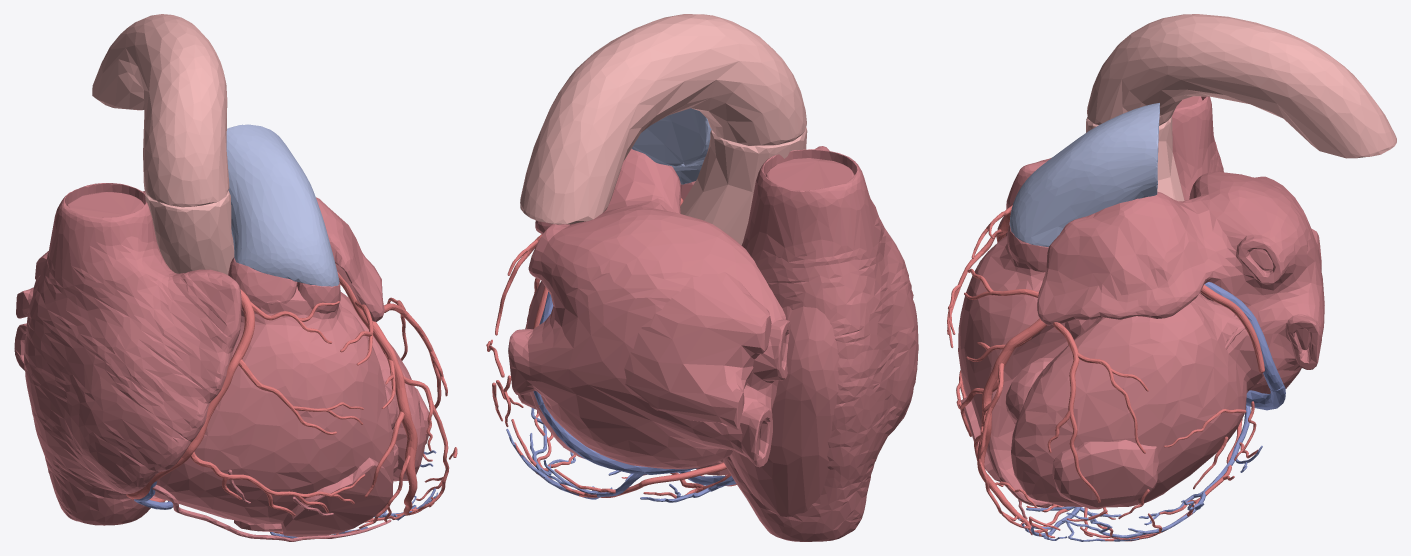
Rendered from heart_model.glb.
3 views of the same model, side by side, from view 1: azimuth 30°, elevation 25°; view 2: azimuth 150°, elevation 25°; view 3: azimuth 270°, elevation 25° (orthographic). The views are drawn at different scales.
Parts seen in each view (by area): view 1: myocardium, aorta, pulmonary_trunk, lad, rca, coronary_veins; view 2: myocardium, aorta, coronary_veins, pulmonary_trunk, rca, lcx, lad; view 3: myocardium, aorta, pulmonary_trunk, lad, coronary_veins, rca, lcx.
Part boxes in pixels (<box>): myocardium: <box>14,183,430,541</box>; aorta: <box>92,14,234,274</box>; pulmonary_trunk: <box>226,124,339,286</box>; lad: <box>337,272,457,528</box>; rca: <box>126,289,425,534</box>; coronary_veins: <box>134,450,437,538</box>; myocardium: <box>508,146,918,541</box>; aorta: <box>520,14,807,245</box>; coronary_veins: <box>506,292,736,502</box>; pulmonary_trunk: <box>631,108,711,184</box>; rca: <box>511,410,736,498</box>; lcx: <box>486,286,548,426</box>; lad: <box>495,234,542,335</box>; myocardium: <box>958,96,1324,519</box>; aorta: <box>1086,14,1396,201</box>; pulmonary_trunk: <box>1009,103,1159,247</box>; lad: <box>960,268,1148,537</box>; coronary_veins: <box>1018,282,1285,541</box>; rca: <box>947,205,1258,541</box>; lcx: <box>1067,284,1264,521</box>.
Bounding box in the file's own units: 1.62 × 2 × 1.78.
